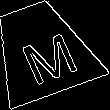M_N: (7, 18, 75, 82)
